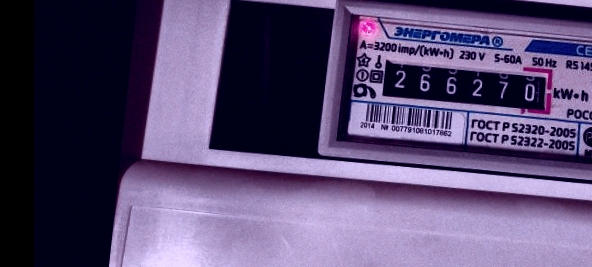0: (523, 81, 538, 102)
2: (392, 68, 409, 89), (470, 76, 486, 97)
6: (418, 70, 433, 93), (445, 74, 460, 96)
7: (496, 79, 510, 99)
screen: (373, 48, 561, 120)
